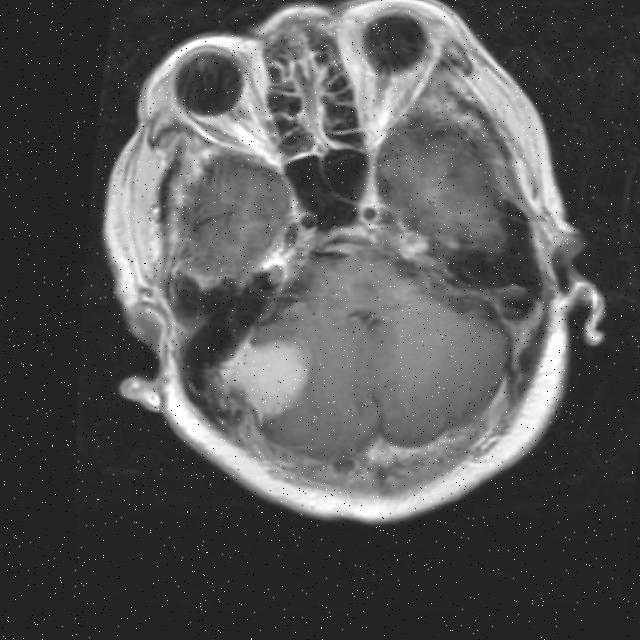Meningioma: (214, 328, 316, 430)
